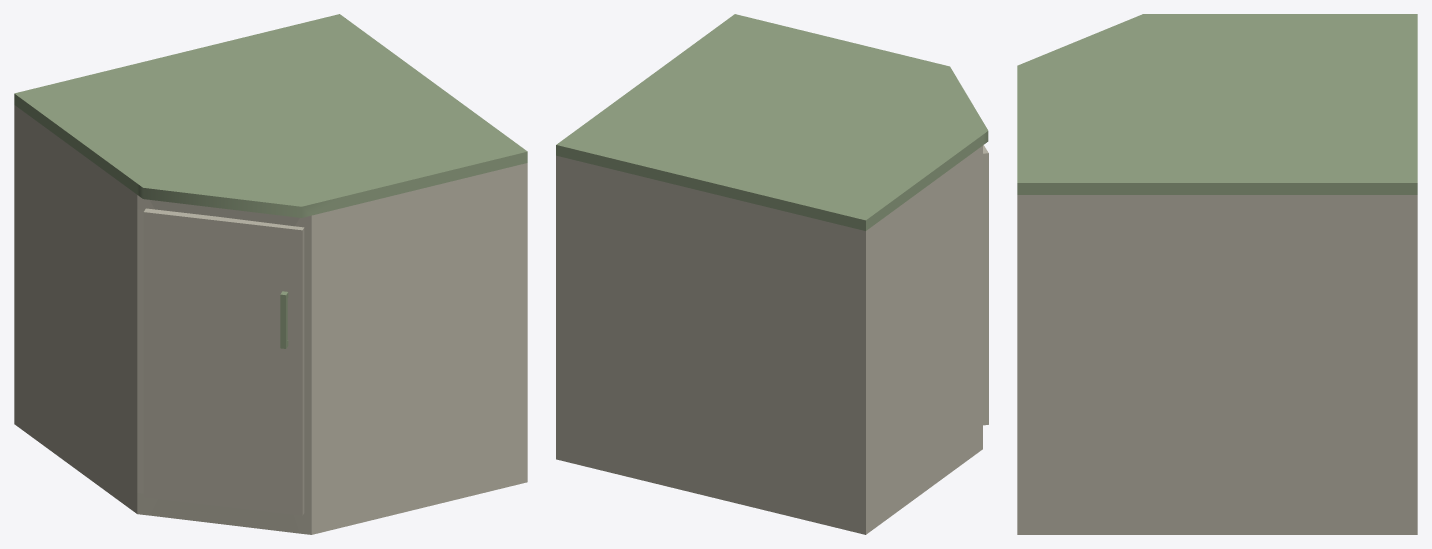
The model's file is KitchenCounter_Corner_01.fbx.
3 views of the same model, side by side, from view 1: azimuth 30°, elevation 25°; view 2: azimuth 150°, elevation 25°; view 3: azimuth 270°, elevation 25° (orthographic). The views are drawn at different scales.
Parts seen in each view (by area): view 1: KitchenCounter_Corner_01, KitchenCounter_Corner_1_Door; view 2: KitchenCounter_Corner_01, KitchenCounter_Corner_1_Door; view 3: KitchenCounter_Corner_01.
Part boxes in pixels (x1=…): KitchenCounter_Corner_01: x1=14, y1=14, x2=527, y2=534; KitchenCounter_Corner_1_Door: x1=143, y1=208, x2=304, y2=515; KitchenCounter_Corner_01: x1=556, y1=14, x2=988, y2=534; KitchenCounter_Corner_1_Door: x1=983, y1=145, x2=988, y2=425; KitchenCounter_Corner_01: x1=1017, y1=14, x2=1417, y2=534.
Size of the model in its own units: 1 by 0.9704 by 1.
